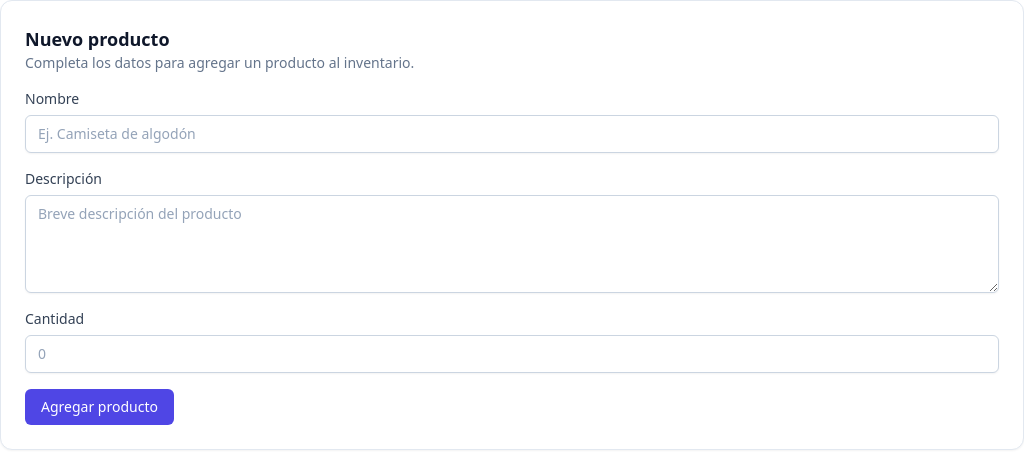
Test case: ProductForm › create mode › resets the form after a successful submission
In the field labelled "Nombre": (512, 134) top-left (25, 115), bottom-right (999, 153), type "Camiseta"
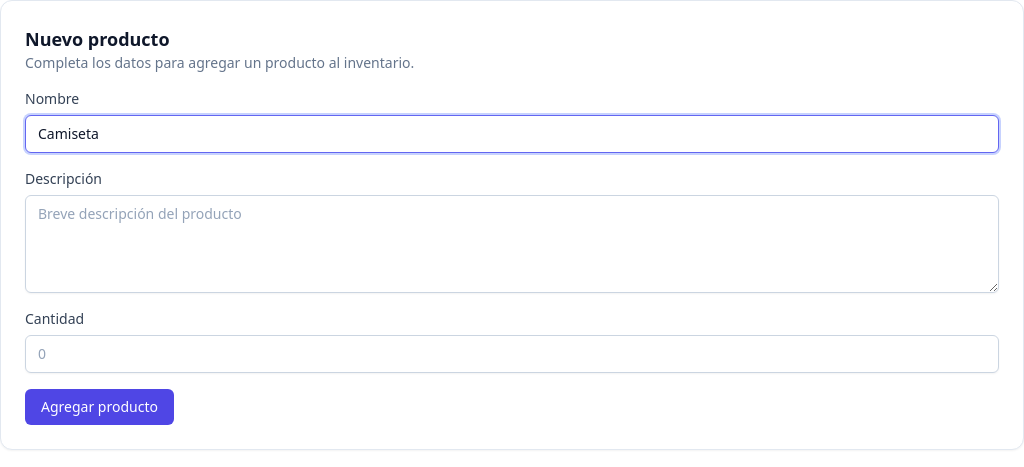
In the text box labelled "Descripción": (512, 244) top-left (25, 195), bottom-right (999, 293), type "Camiseta de algodón orgánico"
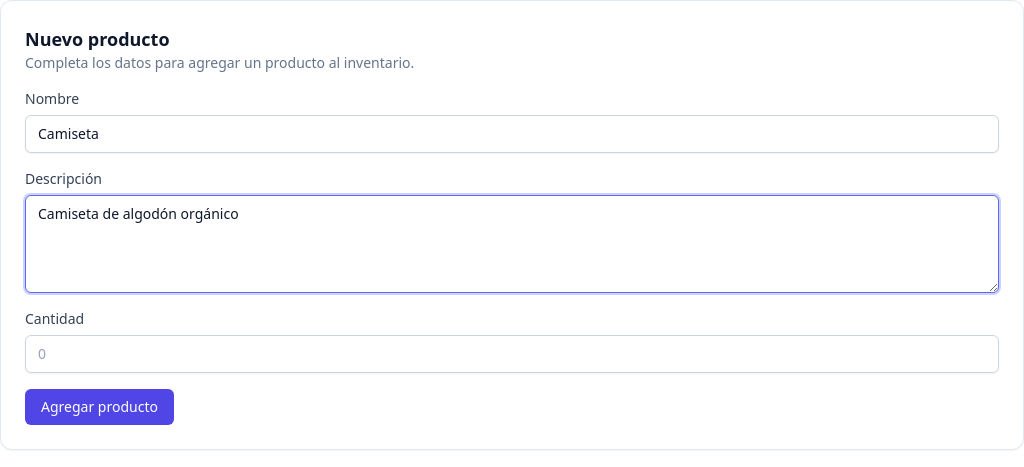
In the number field labelled "Cantidad": (512, 354) top-left (25, 335), bottom-right (999, 373), type "12"
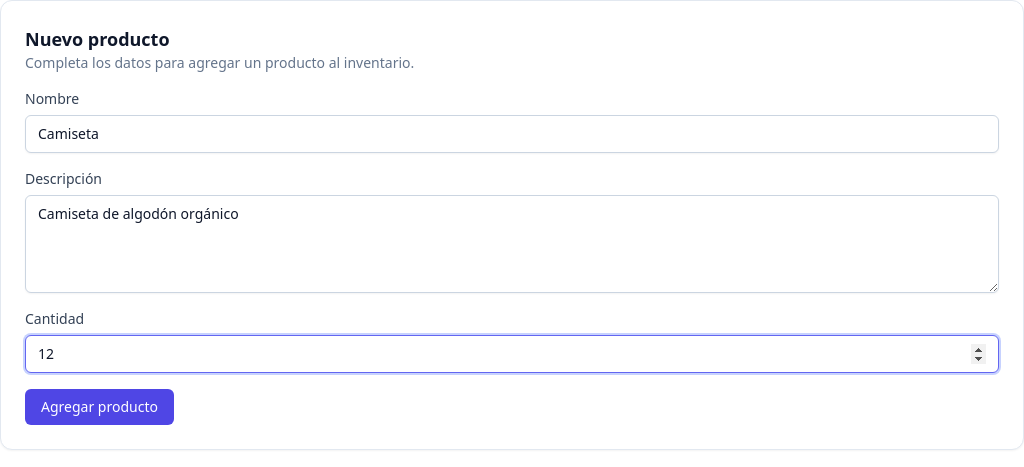
Click the button "Agregar producto": (99, 407) top-left (25, 389), bottom-right (174, 425)
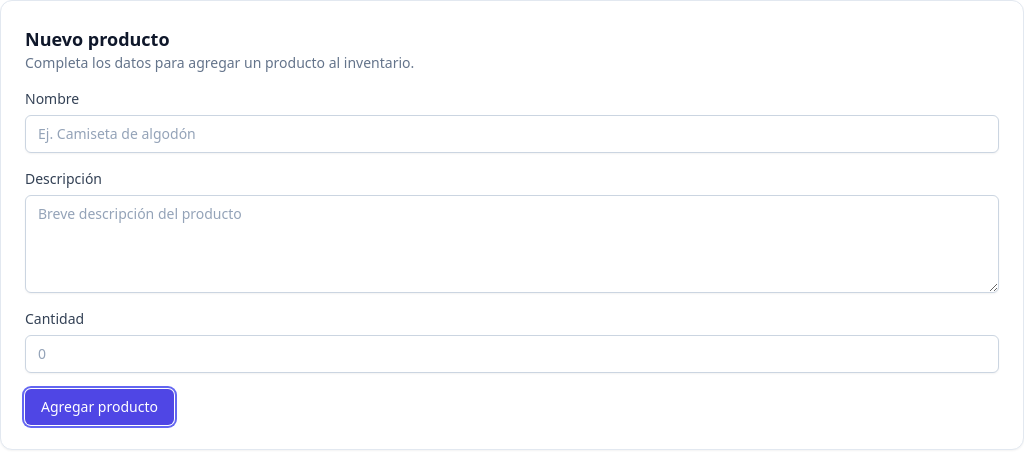
Now the field labelled "Nombre" is empty, box top-left (25, 115), bottom-right (999, 153)
Now the text box labelled "Descripción" is empty, box top-left (25, 195), bottom-right (999, 293)
Now the number field labelled "Cantidad" is not empty, box top-left (25, 335), bottom-right (999, 373)
